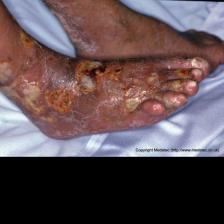Wound: (61, 57, 114, 97), (35, 85, 79, 116), (115, 82, 151, 117)
